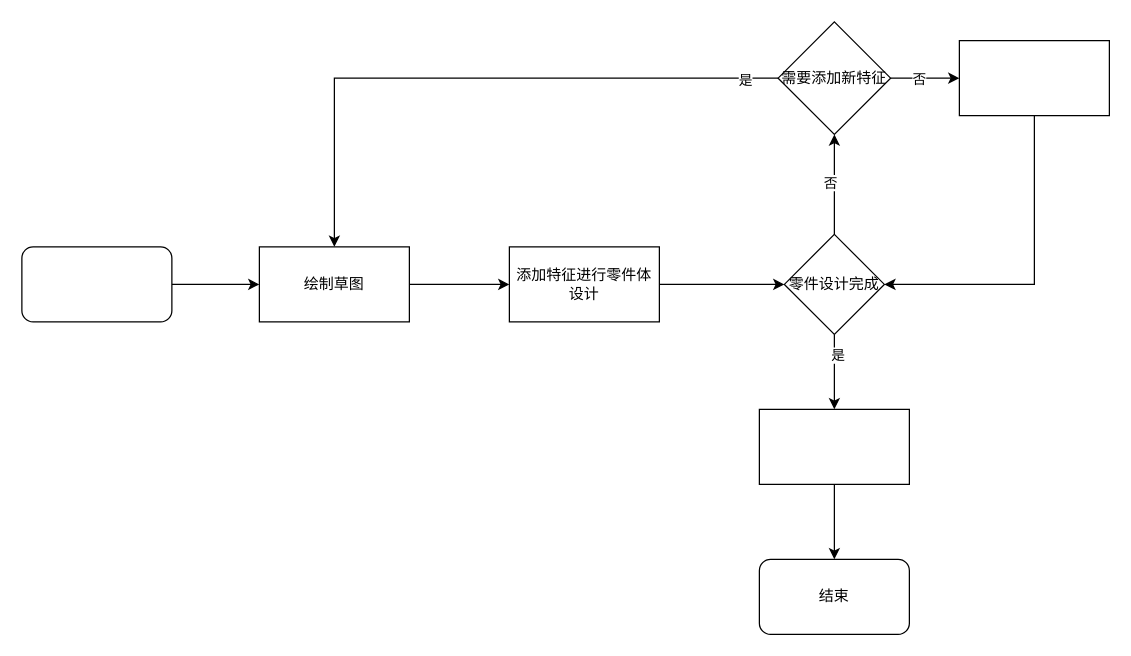
Some shapes in this 1131 by 656 pixel diagram are drawn without their labels. The centre of each missing label's shape, as x and y in pixels:
开始: the point at 96,284
模型文件导出: the point at 833,446
零件编辑: the point at 1033,77
